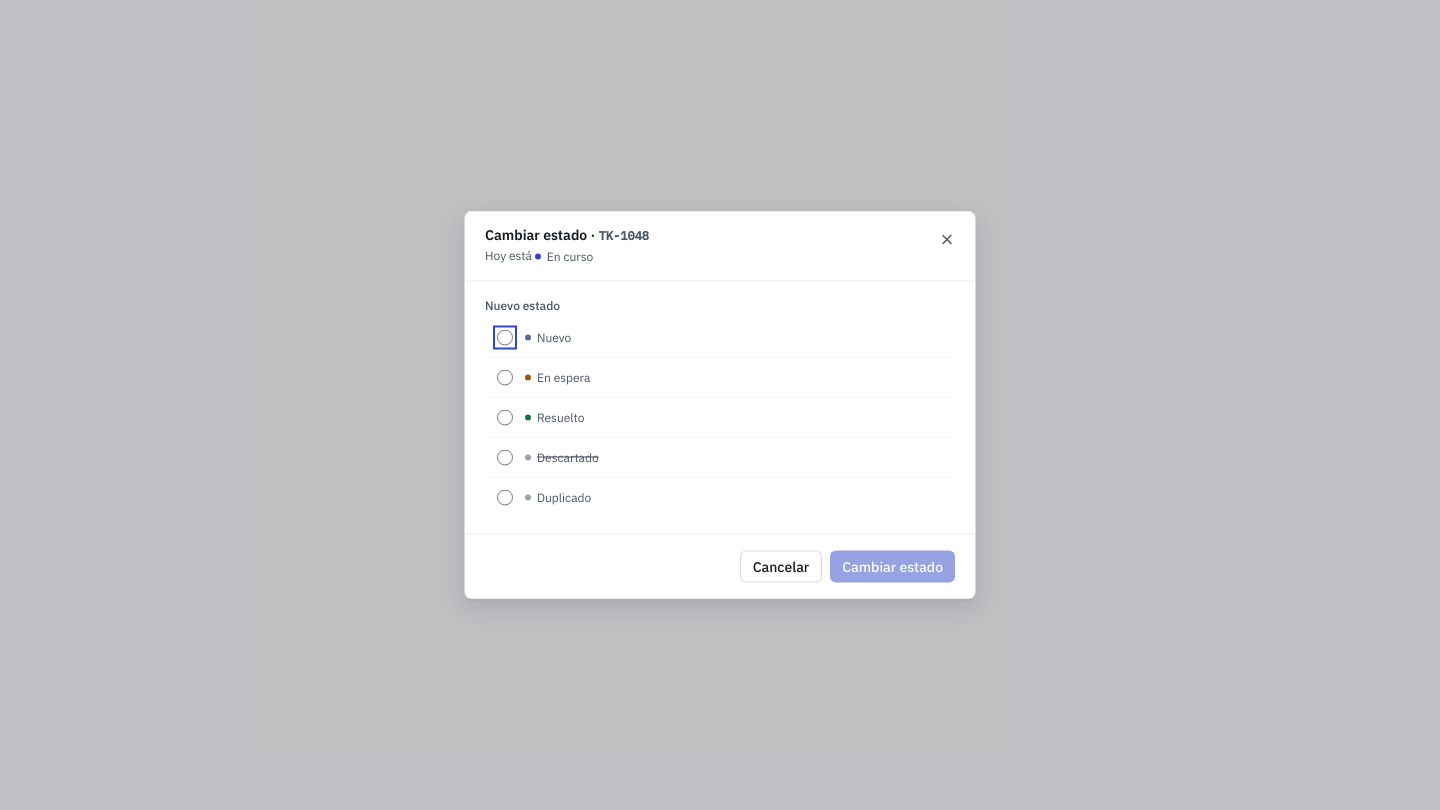
Test: muestra "¿De quién se espera?" solo al elegir En espera
Expected: the text "¿De quién se espera?" is not shown
Click the radio button labelled "En espera" at (505, 377), box x1=497 y1=369 x2=513 y2=385
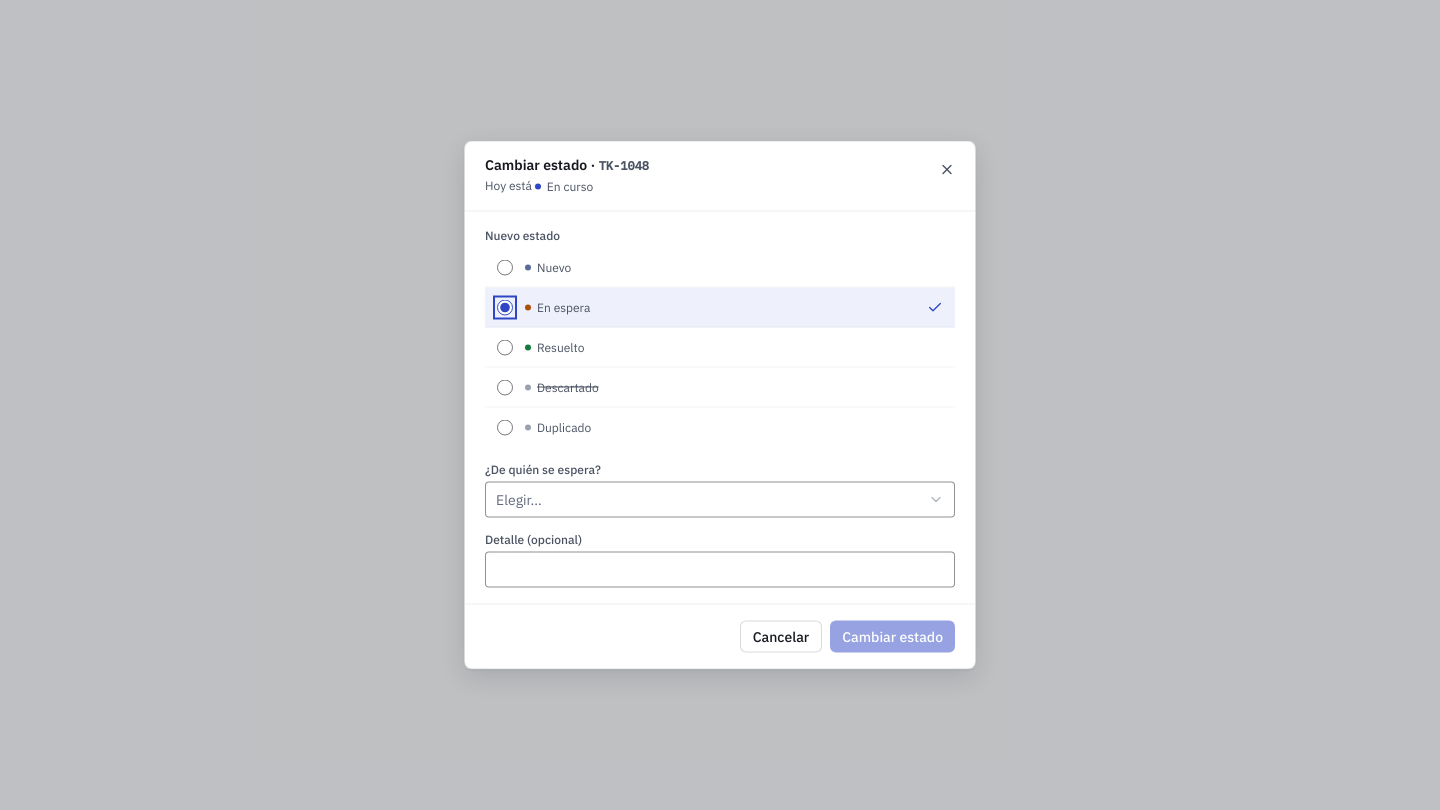
Expected: the button "Cambiar estado" is disabled, x1=830 y1=620 x2=955 y2=652
Expected: the text "¿De quién se espera?" is shown, x1=485 y1=462 x2=601 y2=476
Click the radio button labelled "Descartado" at (505, 387), box x1=497 y1=379 x2=513 y2=395
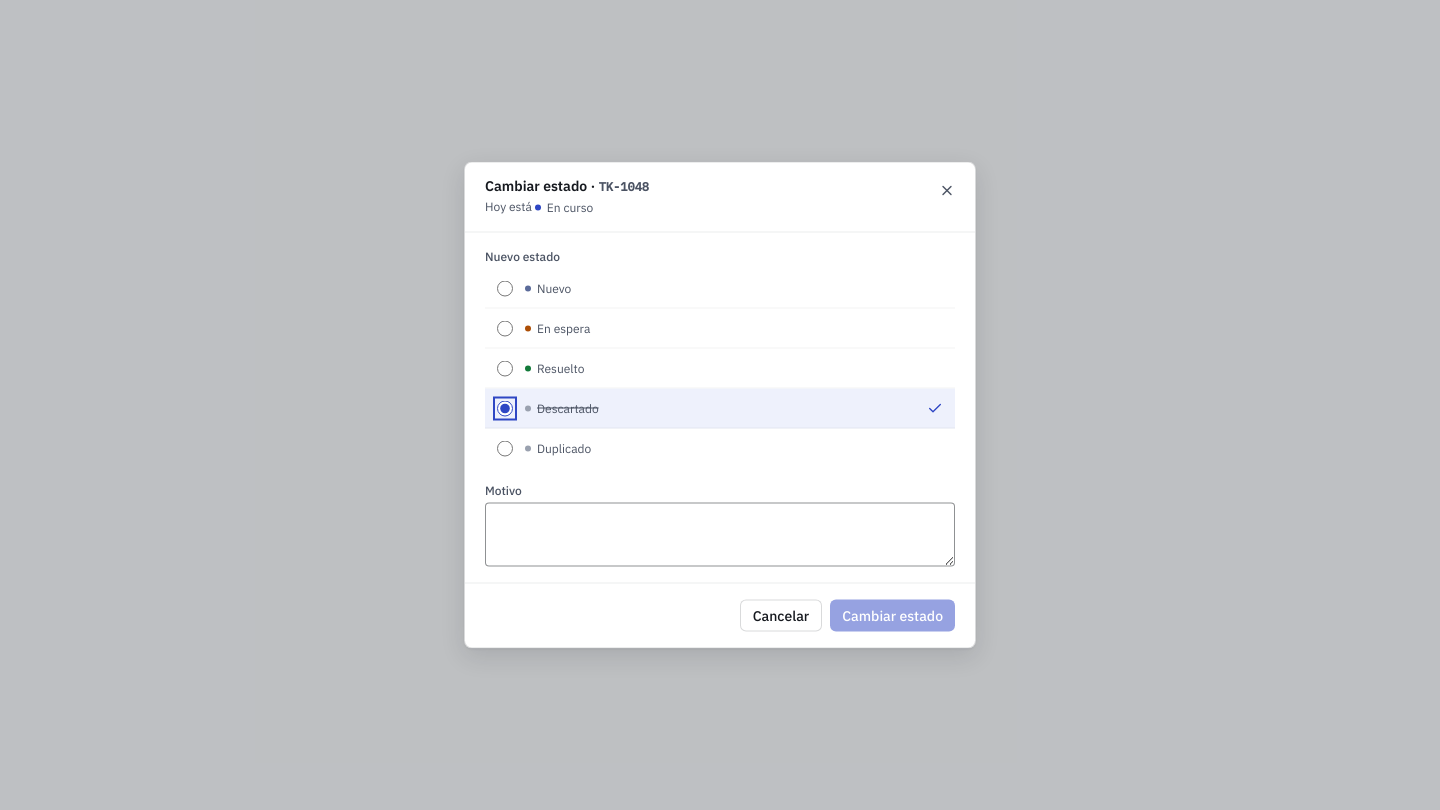
Expected: the text "¿De quién se espera?" is gone
Expected: the text box labelled "Motivo" is shown, x1=485 y1=502 x2=955 y2=566
